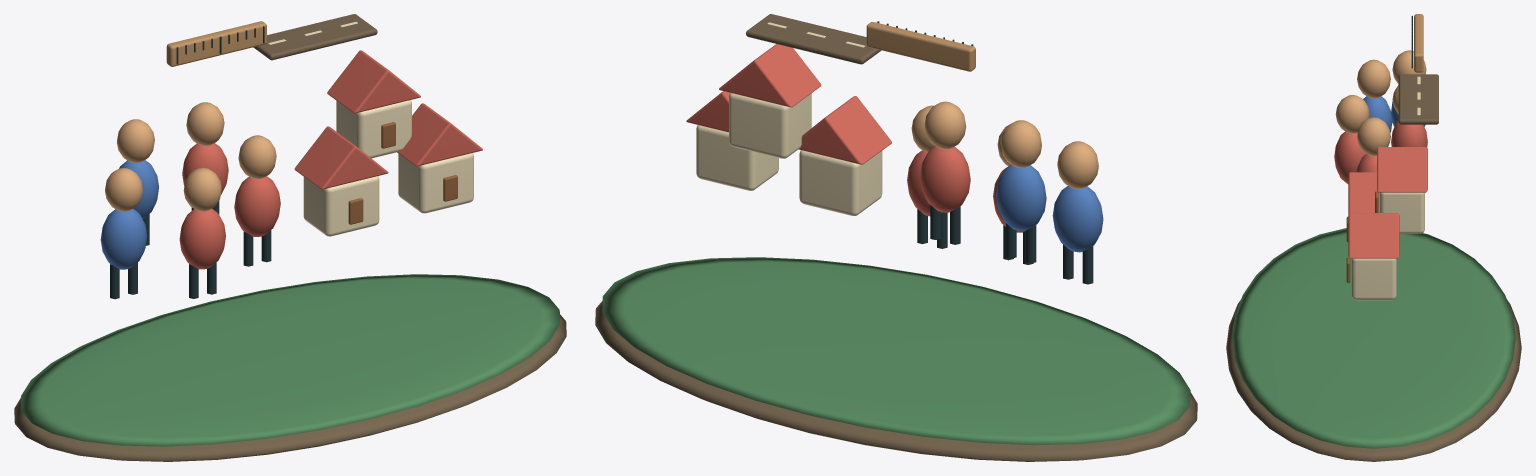
File: complete-third-public-village-distance.glb
3 views of the same model, side by side, from view 1: azimuth 30°, elevation 25°; view 2: azimuth 150°, elevation 25°; view 3: azimuth 270°, elevation 25° (orthographic). The views are drawn at different scales.
Parts seen in each view (by area): view 1: complete-third-public-village-distance_surface_01, complete-third-public-village-distance_surface_05, complete-third-public-village-distance_surface_00, complete-third-public-village-distance_surface_06, complete-third-public-village-distance_surface_02, complete-third-public-village-distance_surface_03, complete-third-public-village-distance_surface_04, complete-third-public-village-distance_surface_08, complete-third-public-village-distance_surface_07; view 2: complete-third-public-village-distance_surface_01, complete-third-public-village-distance_surface_00, complete-third-public-village-distance_surface_05, complete-third-public-village-distance_surface_06, complete-third-public-village-distance_surface_02, complete-third-public-village-distance_surface_03, complete-third-public-village-distance_surface_04, complete-third-public-village-distance_surface_08; view 3: complete-third-public-village-distance_surface_01, complete-third-public-village-distance_surface_05, complete-third-public-village-distance_surface_00, complete-third-public-village-distance_surface_02, complete-third-public-village-distance_surface_06, complete-third-public-village-distance_surface_03, complete-third-public-village-distance_surface_08.
Part boxes in pixels (box(x1,y1,x2,y2)): complete-third-public-village-distance_surface_01: box(21, 274, 559, 446); complete-third-public-village-distance_surface_05: box(179, 50, 482, 269); complete-third-public-village-distance_surface_00: box(14, 14, 566, 461); complete-third-public-village-distance_surface_06: box(268, 21, 473, 236); complete-third-public-village-distance_surface_02: box(105, 102, 276, 211); complete-third-public-village-distance_surface_03: box(100, 160, 158, 269); complete-third-public-village-distance_surface_04: box(110, 26, 271, 299); complete-third-public-village-distance_surface_08: box(166, 21, 266, 66); complete-third-public-village-distance_surface_07: box(348, 122, 457, 224); complete-third-public-village-distance_surface_01: box(602, 257, 1190, 445); complete-third-public-village-distance_surface_00: box(595, 14, 1197, 461); complete-third-public-village-distance_surface_05: box(686, 44, 1024, 232); complete-third-public-village-distance_surface_06: box(696, 22, 882, 215); complete-third-public-village-distance_surface_02: box(911, 101, 1098, 188); complete-third-public-village-distance_surface_03: box(996, 164, 1103, 252); complete-third-public-village-distance_surface_04: box(877, 21, 1093, 284); complete-third-public-village-distance_surface_08: box(866, 22, 975, 71); complete-third-public-village-distance_surface_01: box(1232, 228, 1515, 448); complete-third-public-village-distance_surface_05: box(1334, 120, 1427, 258); complete-third-public-village-distance_surface_00: box(1226, 74, 1521, 461); complete-third-public-village-distance_surface_02: box(1335, 50, 1426, 155); complete-third-public-village-distance_surface_06: box(1351, 76, 1424, 300); complete-third-public-village-distance_surface_03: box(1363, 96, 1425, 132); complete-third-public-village-distance_surface_08: box(1414, 14, 1423, 72).
Bounding box in the file's own units: 4.56 × 2.87 × 2.5.
